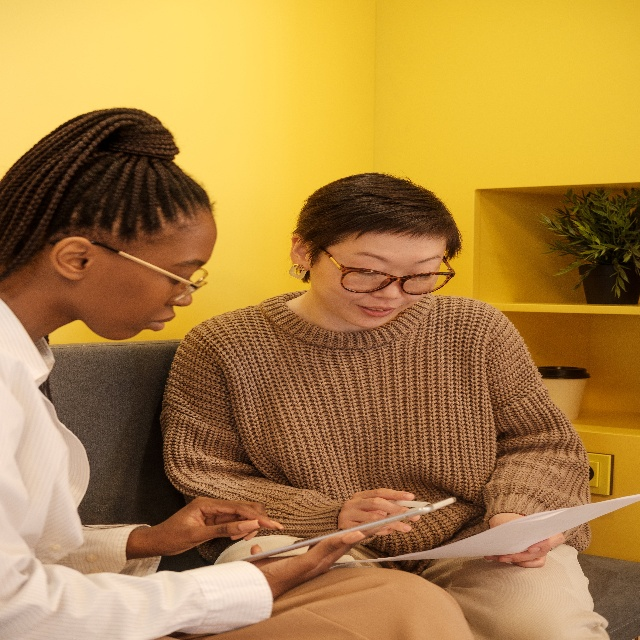Gafas: (310, 235, 456, 295), (90, 239, 208, 296)
Sin_guantes: (246, 529, 370, 600), (150, 493, 284, 556), (337, 486, 422, 539), (483, 531, 565, 570)
